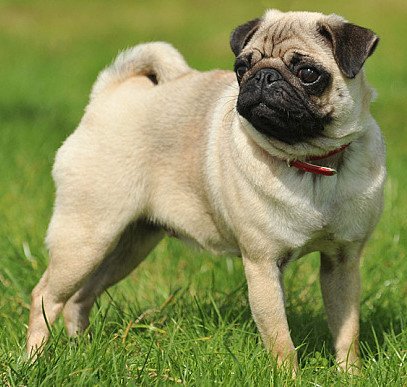dog: (0, 0, 407, 387)
